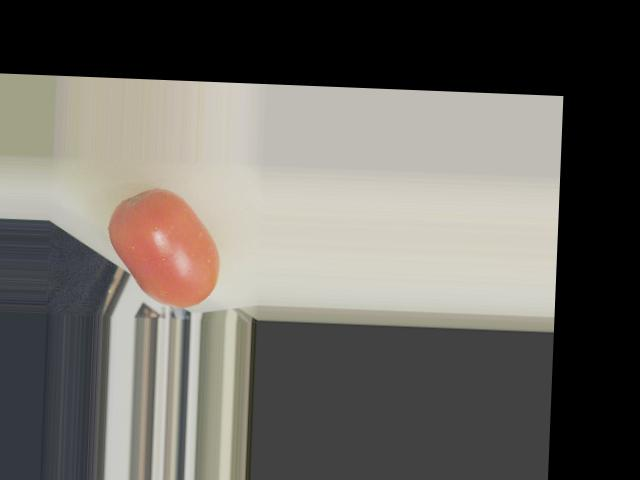tomato: (105, 187, 222, 309)
